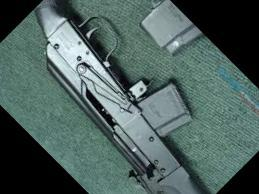larga: (34, 0, 203, 194)
